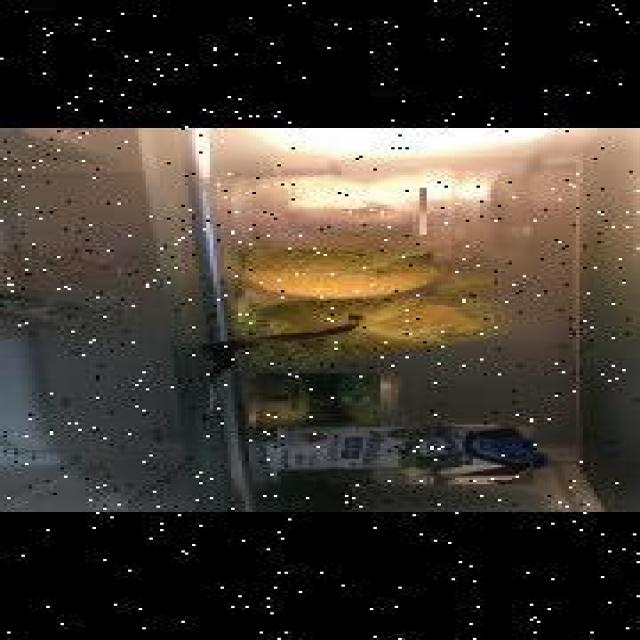garlic: (288, 188, 423, 235)
guacamole: (245, 374, 377, 430)
heavy_cream: (274, 427, 530, 484)
lemon: (242, 250, 430, 298)
